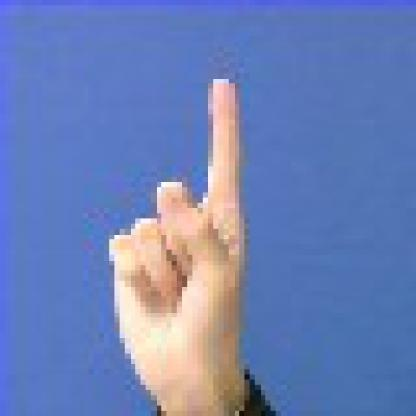one: (102, 71, 259, 398)
